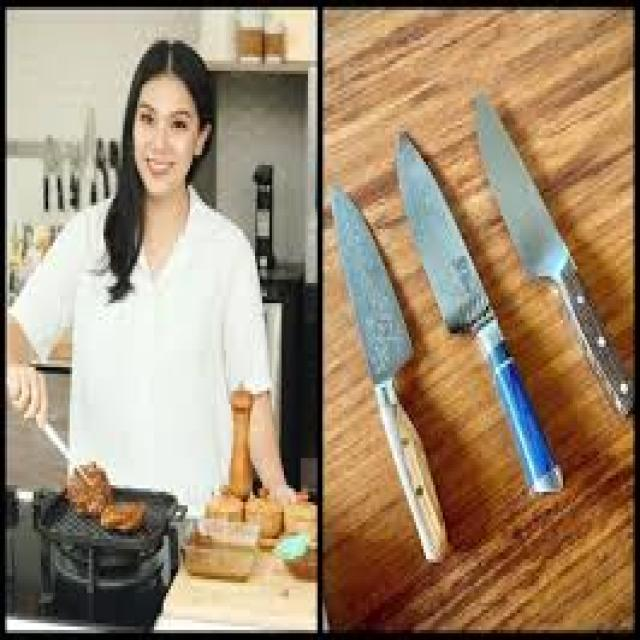Knife: (383, 57, 635, 549)
